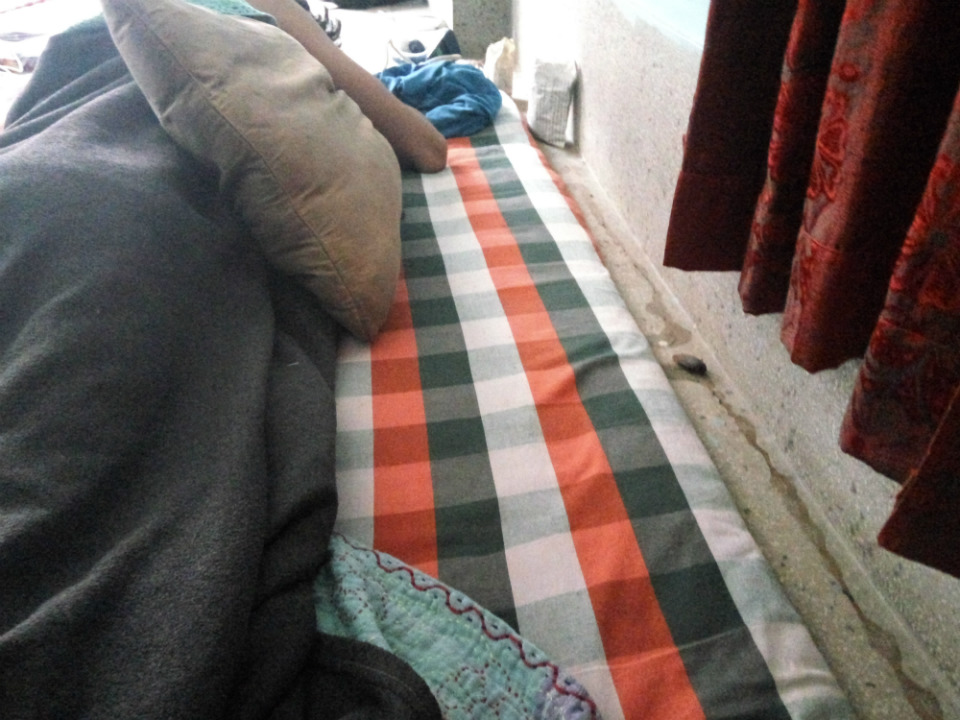cockroach: (658, 321, 734, 405)
